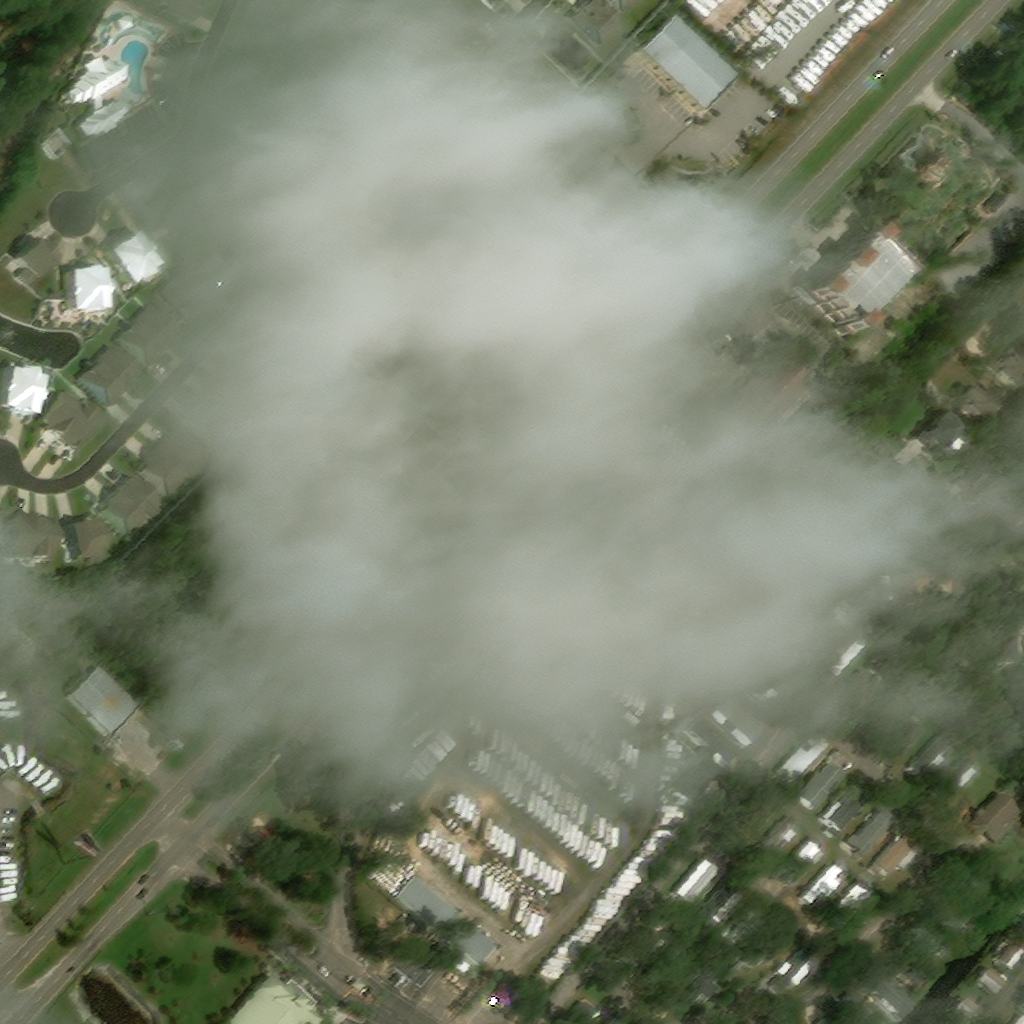no_damage: (802, 220, 919, 335), (641, 13, 739, 110), (397, 876, 498, 966), (69, 664, 143, 736), (229, 977, 325, 1023), (116, 301, 182, 366), (78, 343, 144, 407), (142, 433, 203, 497), (39, 390, 101, 450), (103, 475, 162, 537), (107, 230, 164, 285), (956, 454, 1018, 503), (70, 56, 128, 103), (15, 234, 66, 285), (823, 782, 872, 835), (4, 511, 59, 558), (865, 972, 916, 1021), (916, 408, 967, 456), (974, 792, 1022, 843), (848, 807, 896, 857), (871, 832, 921, 880), (910, 732, 959, 780), (779, 836, 825, 887), (0, 365, 47, 414), (573, 0, 623, 45), (798, 763, 846, 809), (672, 965, 721, 1010), (956, 384, 1010, 424), (776, 742, 825, 786), (67, 264, 112, 310), (827, 883, 872, 928), (884, 944, 930, 988), (81, 96, 130, 137), (676, 858, 719, 904), (907, 923, 953, 966), (65, 517, 107, 562), (770, 949, 811, 993), (987, 341, 1023, 391), (927, 901, 971, 941), (804, 863, 843, 908), (697, 885, 740, 925), (760, 814, 799, 856), (722, 907, 761, 946), (940, 758, 976, 796), (888, 720, 922, 754), (952, 995, 986, 1023), (998, 933, 1023, 970), (977, 966, 1007, 994), (572, 1001, 602, 1023), (985, 192, 1008, 214), (792, 962, 813, 985), (609, 0, 641, 13), (946, 435, 966, 455), (118, 14, 135, 30), (94, 93, 105, 111), (779, 960, 792, 975), (915, 708, 928, 721), (1015, 616, 1023, 635)
unclassified: (184, 334, 300, 450), (720, 357, 811, 443), (164, 263, 226, 325), (268, 153, 326, 207), (228, 110, 284, 164), (355, 70, 409, 124), (323, 101, 380, 152), (539, 26, 591, 81), (398, 178, 453, 230), (456, 115, 509, 168), (814, 525, 869, 576), (242, 186, 296, 237), (311, 266, 365, 317), (712, 696, 767, 746), (429, 145, 482, 194), (488, 89, 537, 140), (369, 207, 421, 254), (414, 18, 464, 66), (389, 43, 435, 95), (839, 663, 889, 710), (302, 132, 354, 175), (687, 718, 736, 763), (343, 235, 390, 278), (438, 0, 491, 36), (824, 634, 869, 676), (144, 190, 189, 231), (744, 928, 785, 970), (835, 991, 887, 1023), (866, 686, 903, 729), (972, 636, 1011, 676), (673, 766, 712, 804), (776, 636, 814, 663), (155, 0, 205, 20), (747, 677, 779, 705), (893, 570, 924, 598), (777, 553, 800, 574), (881, 574, 892, 600), (491, 0, 507, 8)
